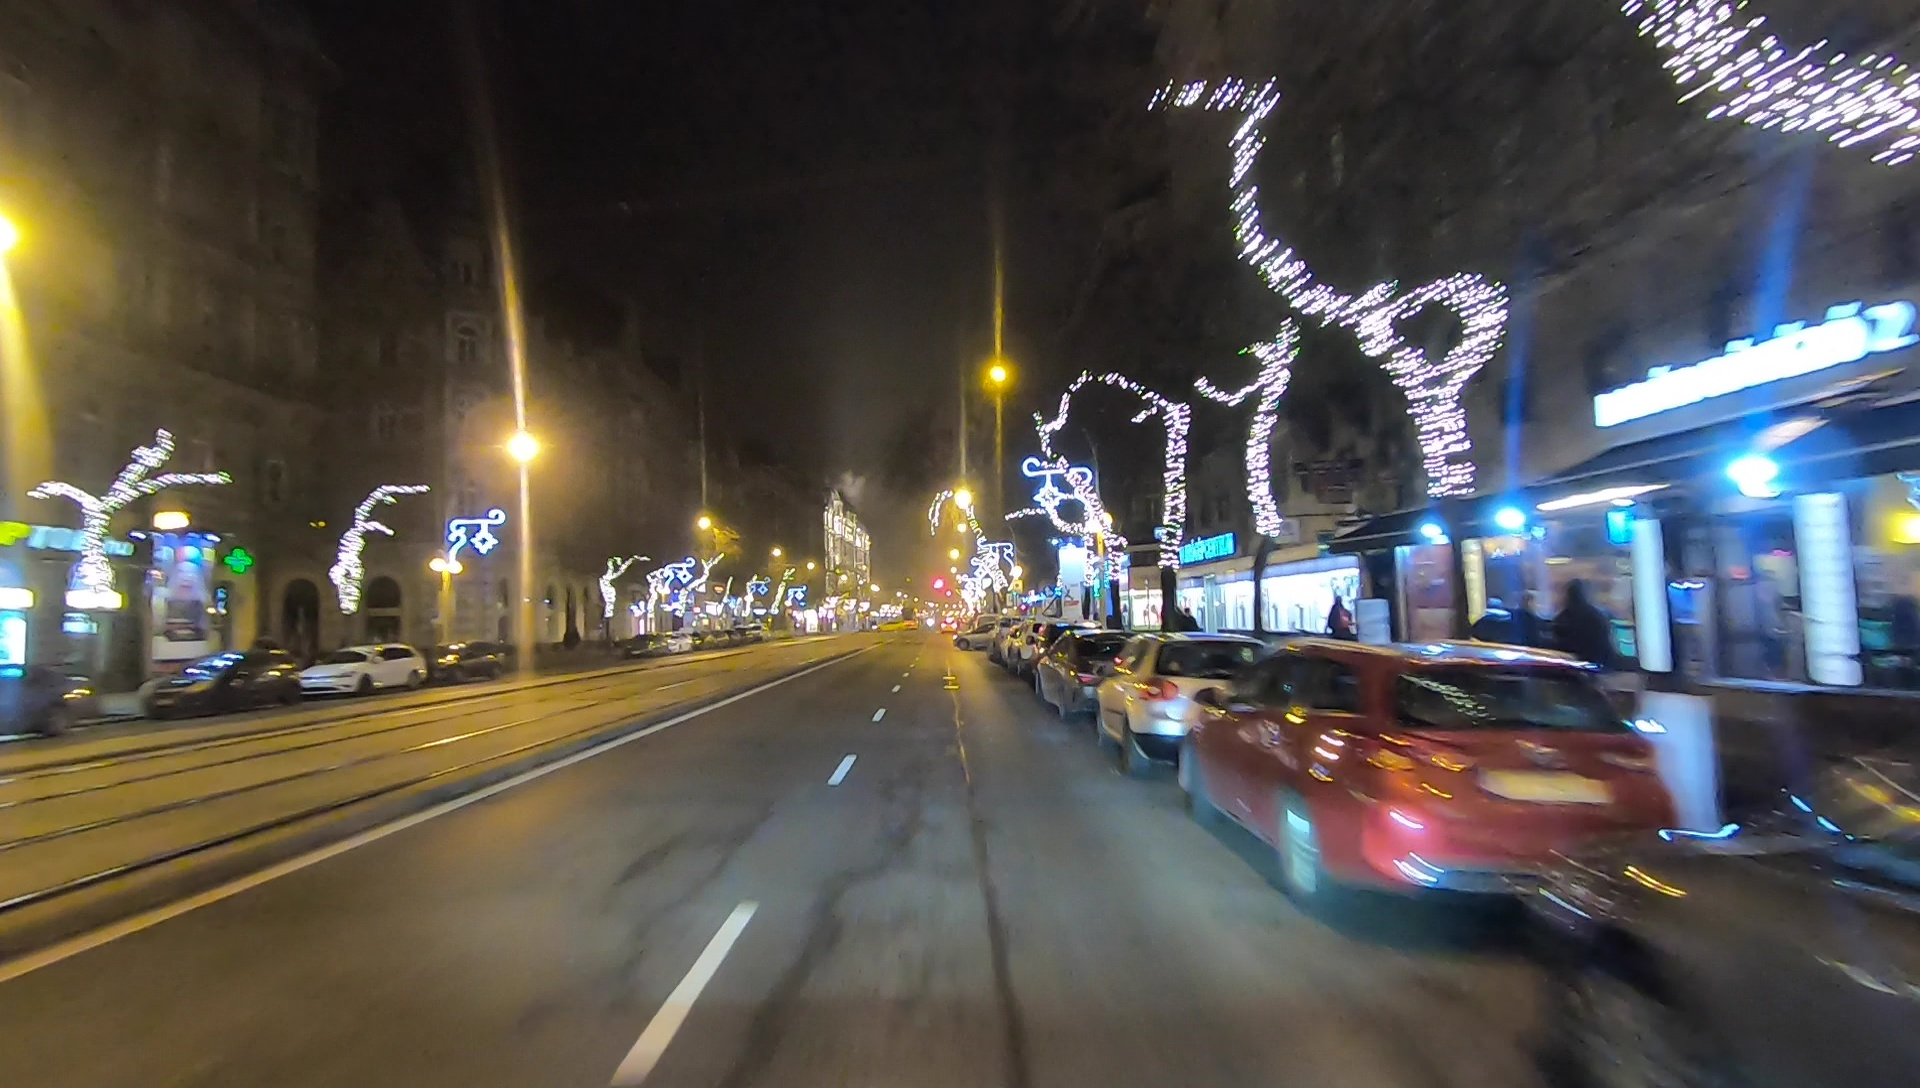person: (1562, 582, 1614, 693), (1508, 589, 1552, 715), (1325, 597, 1356, 686)
